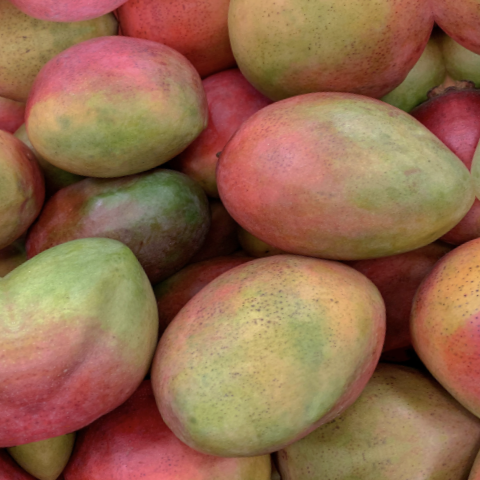mango: (168, 22, 480, 332), (120, 225, 417, 480), (0, 205, 186, 438), (18, 17, 227, 200)
